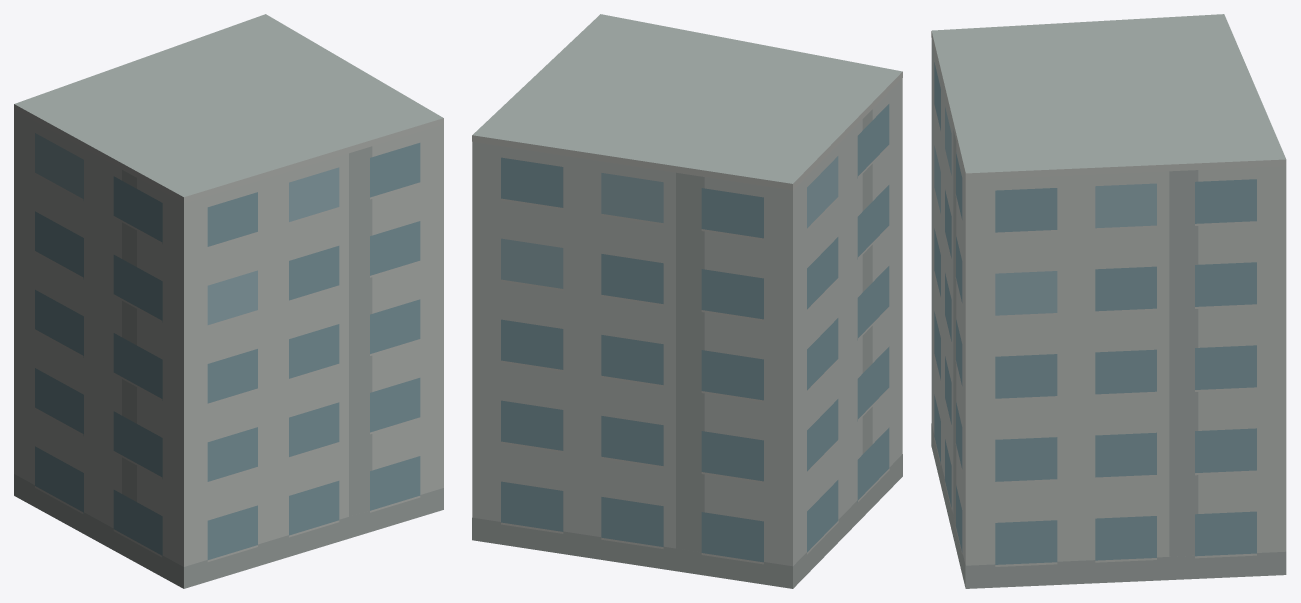
File: survey-upis-32848129.glb
3 renders of one model, left to right at view 1: azimuth 30°, elevation 25°; view 2: azimuth 150°, elevation 25°; view 3: azimuth 270°, elevation 25°, orthographic. The views are drawn at different scales.
Visible parts, largest first — view 1: survey-upis-32848129.tmp; view 2: survey-upis-32848129.tmp; view 3: survey-upis-32848129.tmp.
Part boxes in pixels (x1=…): survey-upis-32848129.tmp: x1=14, y1=14, x2=443, y2=588; survey-upis-32848129.tmp: x1=472, y1=14, x2=902, y2=588; survey-upis-32848129.tmp: x1=931, y1=14, x2=1286, y2=588.
Size of the model in its own units: 12.35 by 15 by 11.62.
